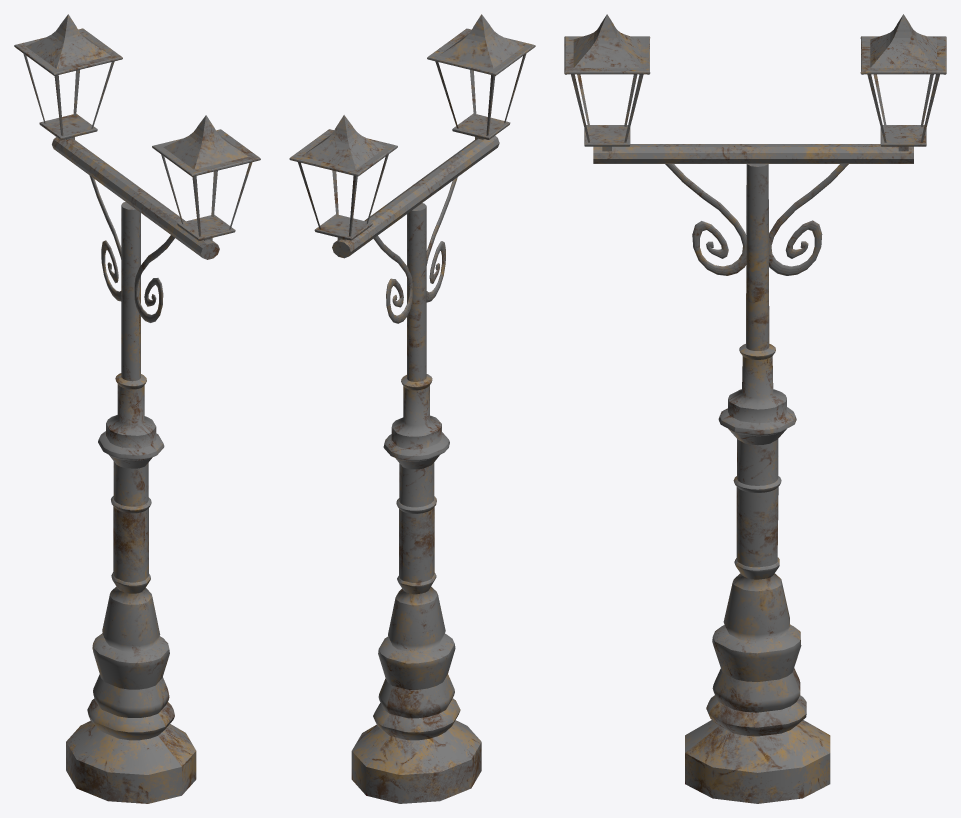
Rendered from lamp small.fbx.
The picture shows the model from 3 angles, left to right: view 1: azimuth 30°, elevation 25°; view 2: azimuth 150°, elevation 25°; view 3: azimuth 270°, elevation 25°; orthographic projection. The views are drawn at different scales.
Parts seen in each view (by area): view 1: pasted__low_base, pasted__right_light, pasted__right_light1, polySurface7, pasted__right_swirl, pasted__right_swirl1; view 2: pasted__low_base, pasted__right_light1, pasted__right_light, polySurface7, pasted__right_swirl1, pasted__right_swirl; view 3: pasted__low_base, polySurface7, pasted__right_light1, pasted__right_light, pasted__right_swirl, pasted__right_swirl1.
Part boxes in pixels (box(x1,y1,x2,y2)): pasted__low_base: box(66, 202, 196, 803); pasted__right_light: box(152, 115, 260, 240); pasted__right_light1: box(14, 14, 122, 140); polySurface7: box(52, 137, 219, 259); pasted__right_swirl: box(134, 235, 174, 322); pasted__right_swirl1: box(89, 175, 121, 301); pasted__low_base: box(351, 203, 481, 803); pasted__right_light1: box(289, 115, 397, 240); pasted__right_light: box(427, 14, 535, 139); polySurface7: box(332, 135, 499, 258); pasted__right_swirl1: box(373, 235, 412, 323); pasted__right_swirl: box(426, 177, 457, 302); pasted__low_base: box(685, 164, 830, 803); polySurface7: box(593, 144, 913, 163); pasted__right_light1: box(860, 14, 946, 151); pasted__right_light: box(564, 14, 650, 151); pasted__right_swirl: box(665, 164, 746, 275); pasted__right_swirl1: box(769, 164, 848, 275).
Size of the model in its own units: 0.5683 by 3.53 by 1.6.
1 material, 1 textured.
